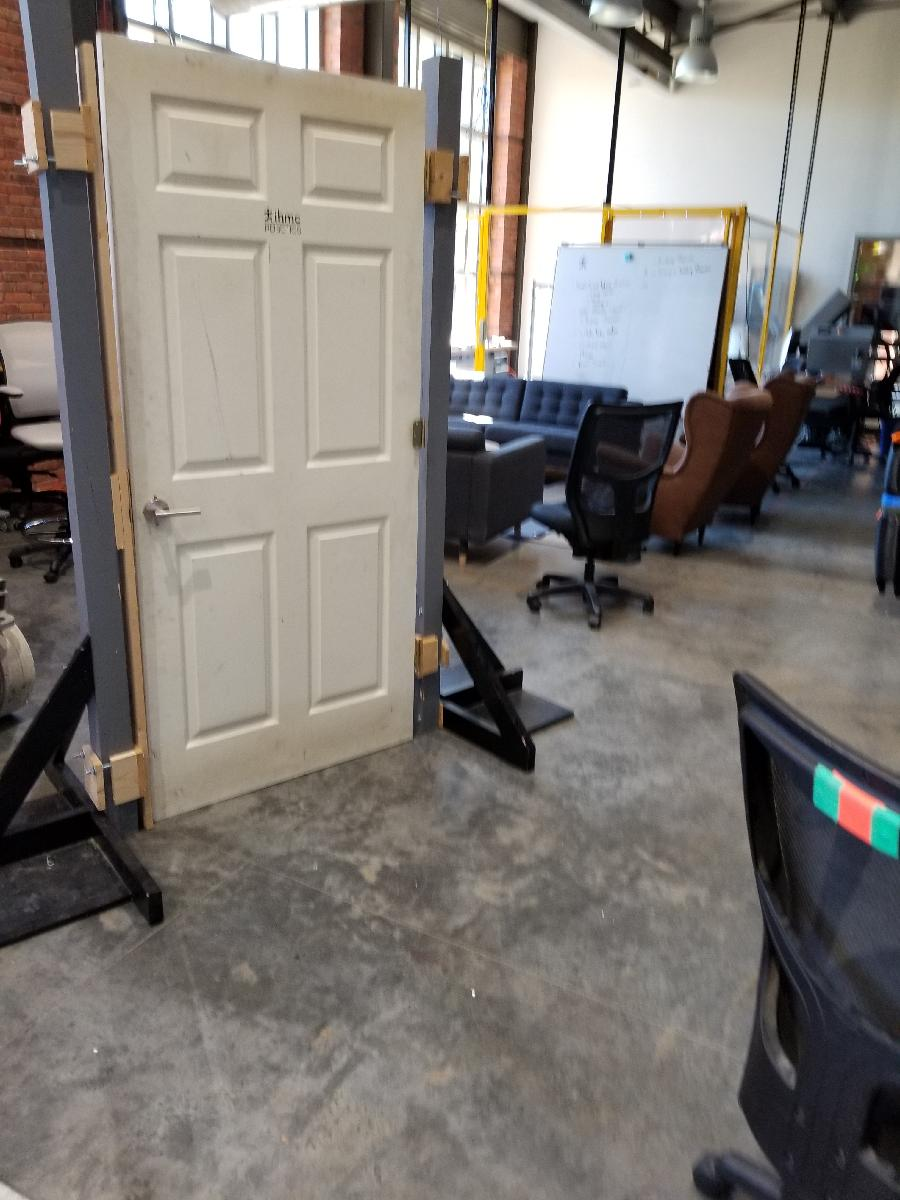door: (87, 29, 430, 823)
doorHandle: (142, 498, 207, 546)
